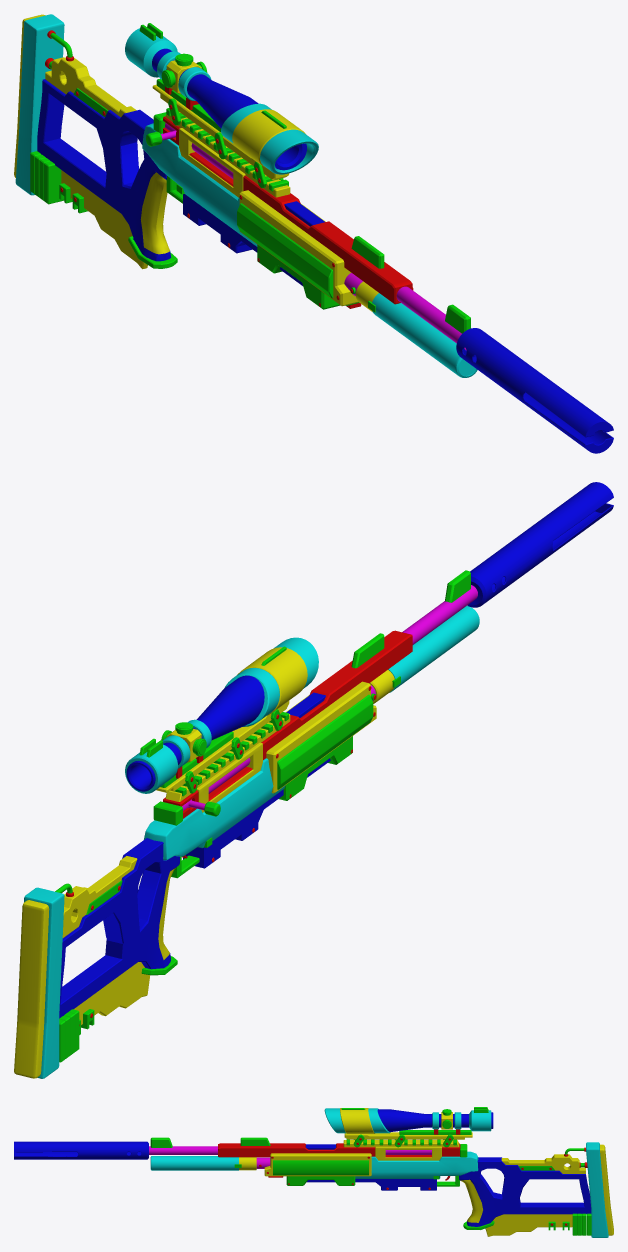
The model's file is Sniper_Final.fbx.
The picture shows the model from 3 angles, top to bottom: view 1: azimuth 30°, elevation 25°; view 2: azimuth 150°, elevation 25°; view 3: azimuth 270°, elevation 25°; orthographic projection. The views are drawn at different scales.
Visible parts, largest first — view 1: polySurface688; view 2: polySurface688; view 3: polySurface688.
Boxes of the visible parts, x1,y1,x2,y2 form: polySurface688: (14, 14, 613, 453); polySurface688: (14, 482, 613, 1078); polySurface688: (14, 1107, 613, 1237).
Size of the model in its own units: 0.7602 by 3.02 by 12.8.
